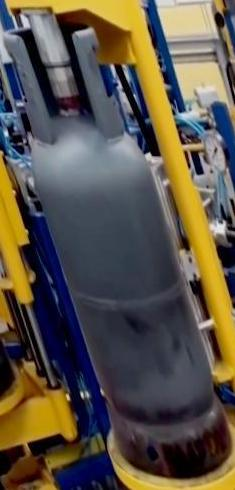cylinder: (1, 1, 235, 490)
